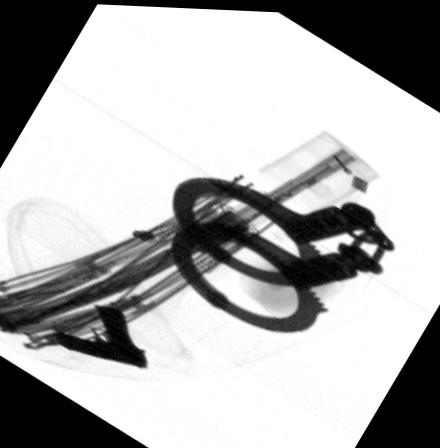Gun: (48, 299, 148, 369)
HandCuffs: (168, 173, 401, 334)
